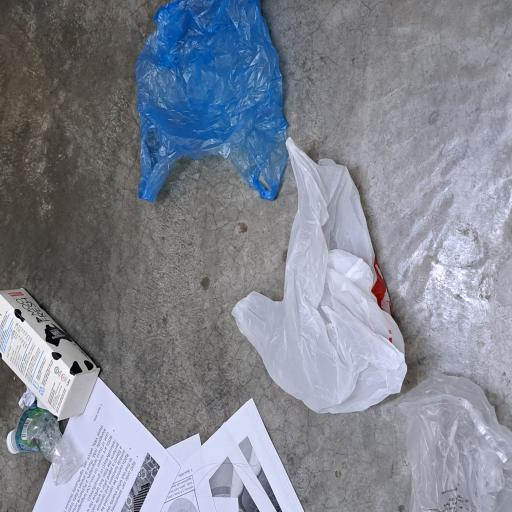drink carton: (67, 0, 169, 135)
paper: (0, 45, 104, 408)
plastic bag: (73, 309, 282, 512), (233, 181, 384, 388)
plastic bottle: (18, 18, 82, 113)
plastic bottle cap: (44, 8, 62, 25)
